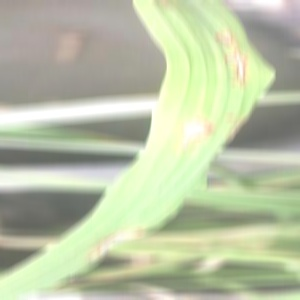Brown_Spot: (83, 223, 157, 273), (162, 112, 223, 160), (223, 41, 258, 83), (219, 110, 255, 150), (214, 25, 257, 49)
